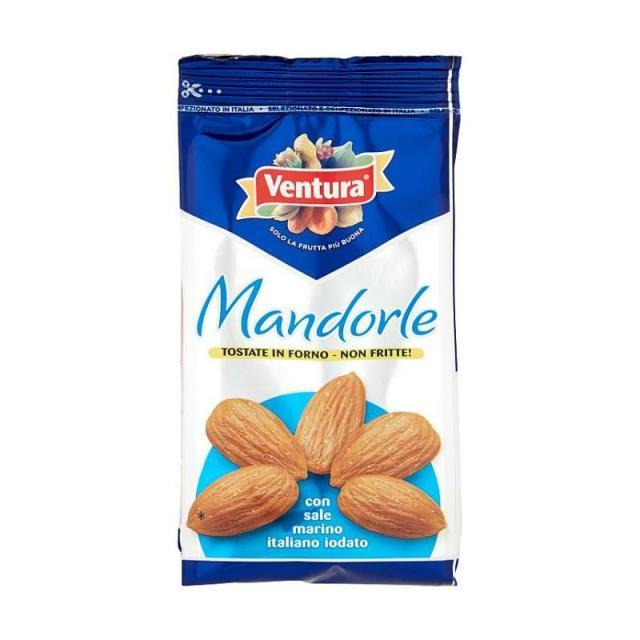Frutta secca: (183, 462, 305, 540), (294, 373, 372, 468), (335, 476, 448, 538)
